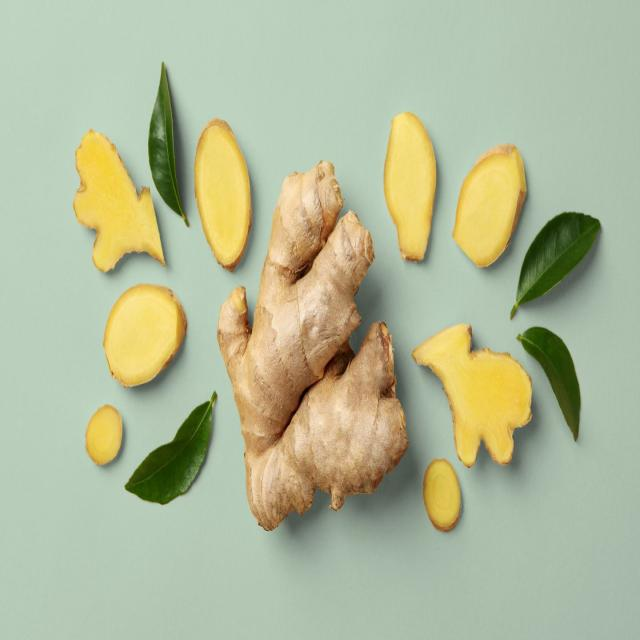ginger-root: (202, 134, 426, 575)
